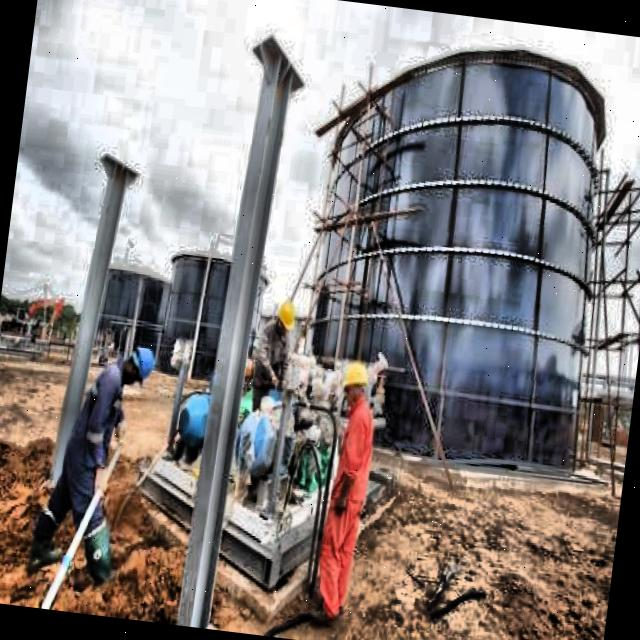helmet: (338, 353, 371, 413), (118, 341, 156, 391), (274, 299, 296, 337)
